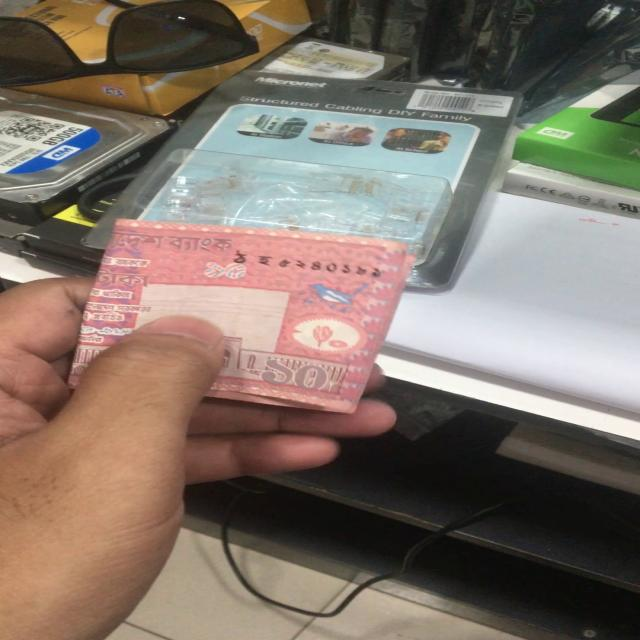Taka: (83, 220, 407, 412)
